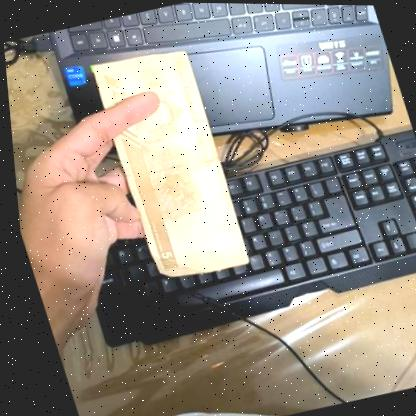vef_back: (86, 42, 250, 283)
